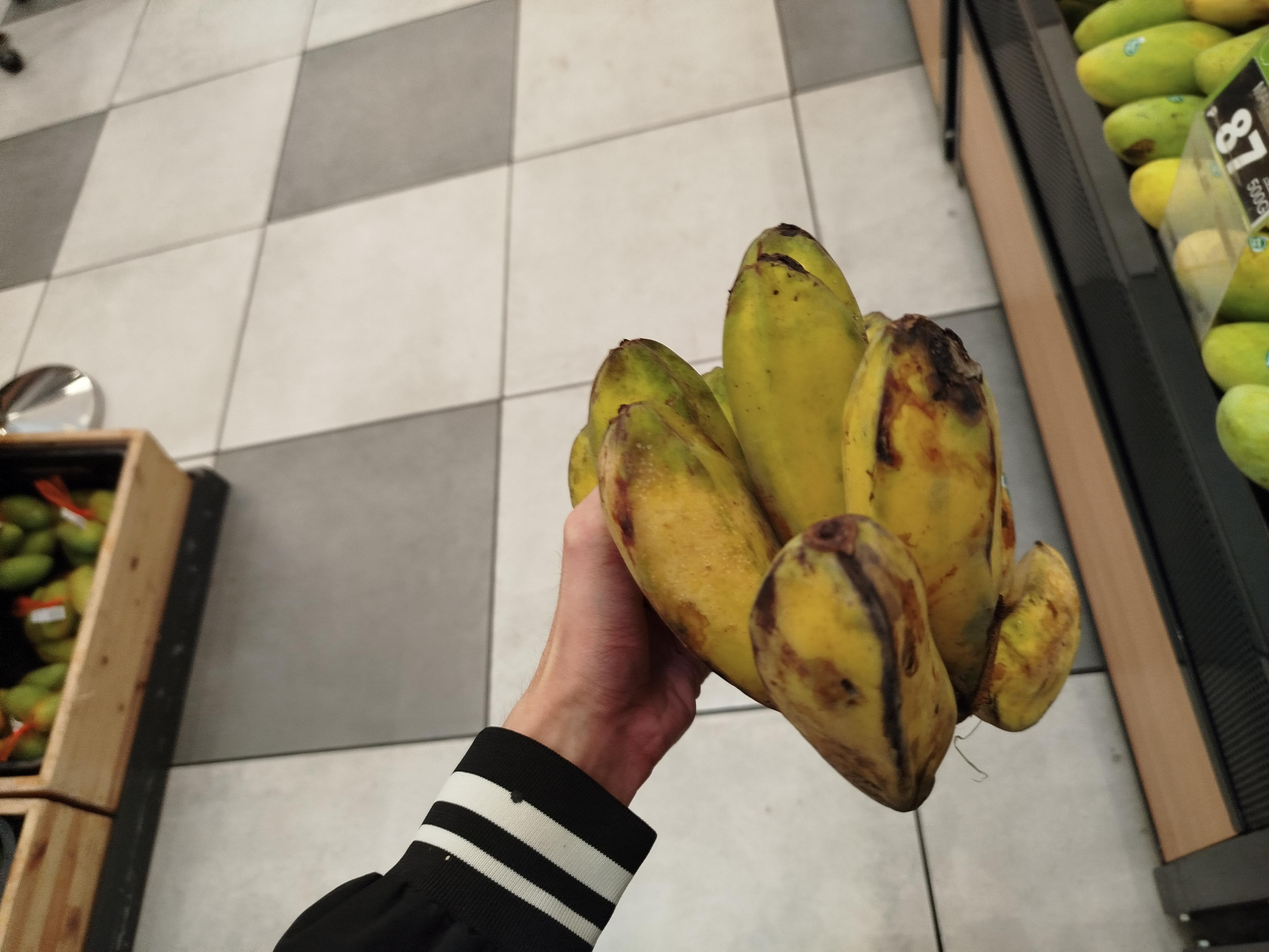underripe: (567, 225, 1080, 809)
